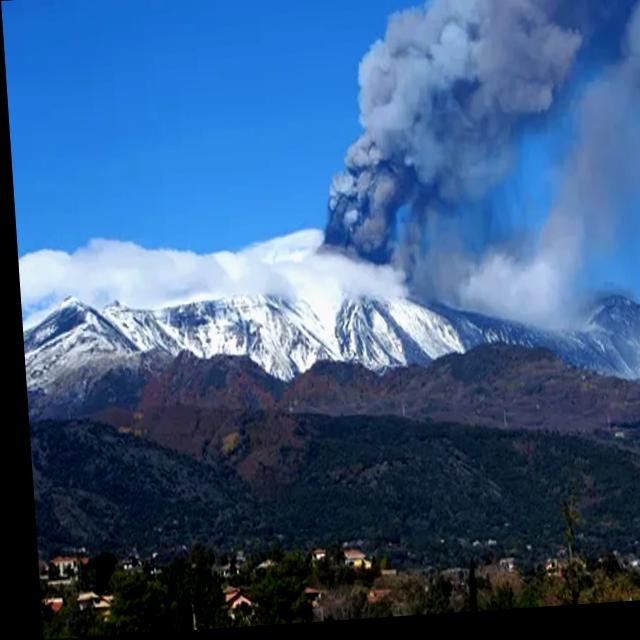no_helmet: (307, 0, 640, 344)
